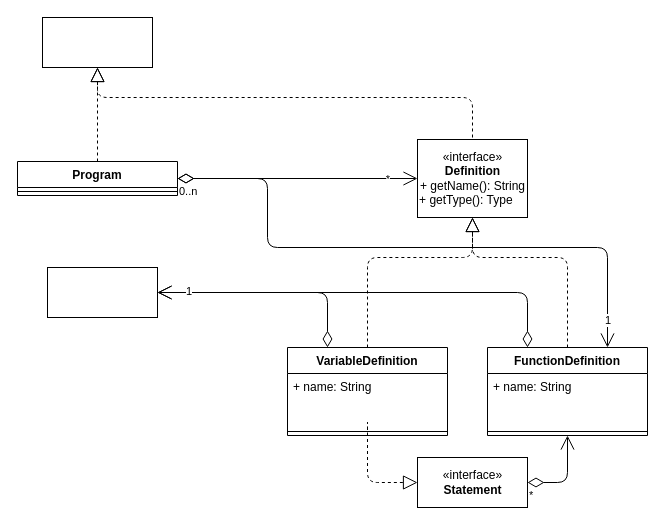
This 665x525 diagram has some shape labels left out. Here are the shapes that lost their labels. From the top down, the centre of each, then its label:
[97,42]: «interface» ASTNode
[102,292]: «interface» Type
